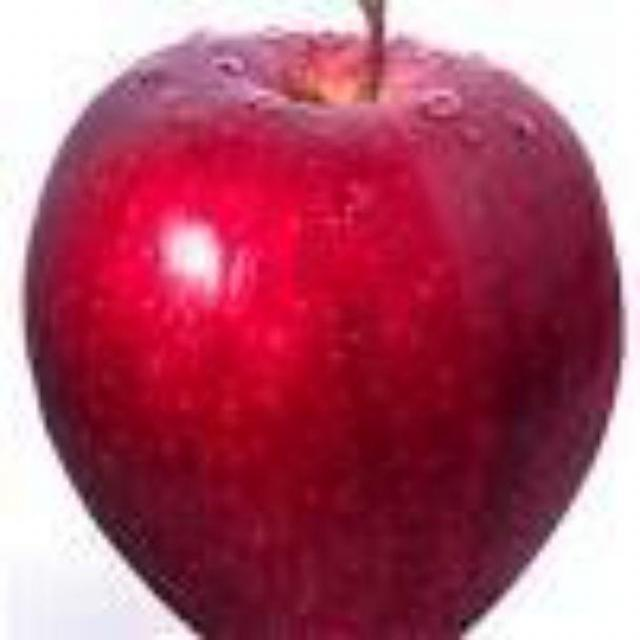HEALTHY: (14, 0, 622, 640)
